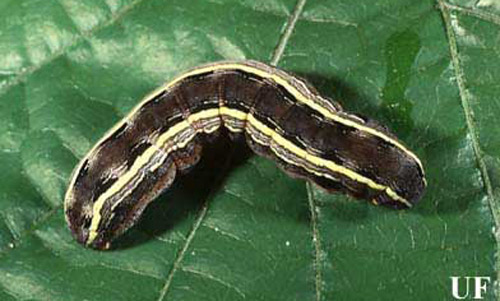Armyworm: (50, 47, 435, 258)
